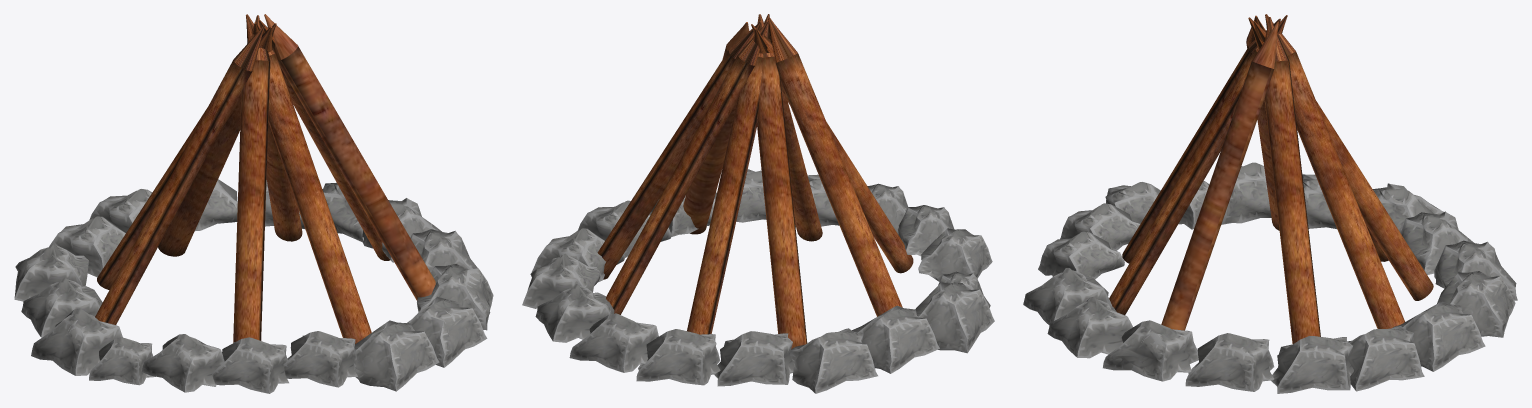
File: campfire_v2.glb
3 views of the same model, side by side, from view 1: azimuth 30°, elevation 25°; view 2: azimuth 150°, elevation 25°; view 3: azimuth 270°, elevation 25° (orthographic). The views are drawn at different scales.
Visible parts, largest first — view 1: Cylinder005, Cylinder006, Cylinder004, Cylinder008, Box038_Material #66_0, Cylinder002, Box021_Material #66_0, Box042_Material #66_0, Box041_Material #66_0, Box037_Material #66_0, Box039_Material #66_0, Box026_Material #66_0 (+12 smaller); view 2: Cylinder008, Cylinder003, Cylinder002, Cylinder001, Cylinder007, Box026_Material #66_0, Box021_Material #66_0, Box027_Material #66_0, Box028_Material #66_0, Box025_Material #66_0, Box029_Material #66_0, Box030_Material #66_0 (+13 smaller); view 3: Cylinder007, Cylinder001, Cylinder004, Cylinder005, Cylinder002, Box032_Material #66_0, Box035_Material #66_0, Box033_Material #66_0, Box031_Material #66_0, Box030_Material #66_0, Box037_Material #66_0, Box029_Material #66_0 (+12 smaller).
Part boxes in pixels (<box>): Cylinder005: <box>246,14,371,343</box>; Cylinder006: <box>233,15,270,342</box>; Cylinder004: <box>264,14,435,300</box>; Cylinder008: <box>95,25,264,324</box>; Box038_Material #66_0: <box>354,320,439,391</box>; Cylinder002: <box>158,26,272,256</box>; Box021_Material #66_0: <box>31,308,122,375</box>; Box042_Material #66_0: <box>283,331,357,387</box>; Box041_Material #66_0: <box>212,337,288,393</box>; Box037_Material #66_0: <box>407,296,487,367</box>; Box039_Material #66_0: <box>141,334,224,392</box>; Box026_Material #66_0: <box>14,244,88,301</box>; Cylinder008: <box>768,17,902,316</box>; Cylinder003: <box>757,14,807,349</box>; Cylinder002: <box>687,14,770,334</box>; Cylinder001: <box>606,21,768,314</box>; Cylinder007: <box>597,21,761,279</box>; Box026_Material #66_0: <box>789,328,877,393</box>; Box021_Material #66_0: <box>915,282,994,353</box>; Box027_Material #66_0: <box>714,331,793,386</box>; Box028_Material #66_0: <box>636,329,720,385</box>; Box025_Material #66_0: <box>852,305,939,373</box>; Box029_Material #66_0: <box>569,313,658,372</box>; Box030_Material #66_0: <box>535,284,614,342</box>; Cylinder007: <box>1264,17,1320,343</box>; Cylinder001: <box>1265,14,1404,328</box>; Cylinder004: <box>1161,21,1278,330</box>; Cylinder005: <box>1109,15,1287,315</box>; Cylinder002: <box>1248,17,1433,300</box>; Box032_Material #66_0: <box>1271,336,1353,393</box>; Box035_Material #66_0: <box>1103,320,1198,381</box>; Box033_Material #66_0: <box>1185,333,1274,391</box>; Box031_Material #66_0: <box>1347,326,1424,391</box>; Box030_Material #66_0: <box>1393,301,1485,371</box>; Box037_Material #66_0: <box>1047,297,1132,358</box>; Box029_Material #66_0: <box>1437,271,1515,337</box>.
Bounding box in the file's own units: 0.0656 × 0.0429 × 0.0669.
Materials: 2 (2 with a texture image).
